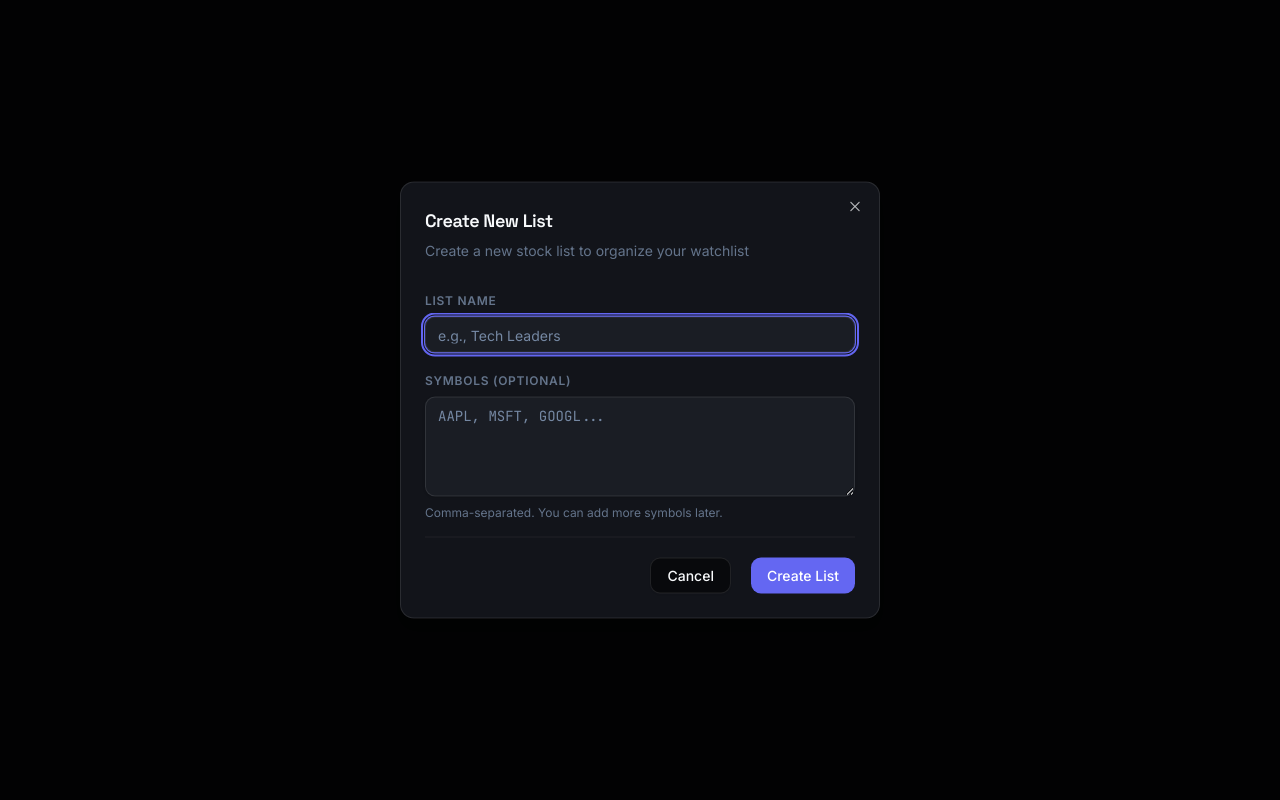
CreateListDialog › Error Handling › displays Axios error detail when available
This screenshot has width=1280, height=800.
Type "Tech" into the field labelled "List Name" at (640, 334), box [425,316,855,352]
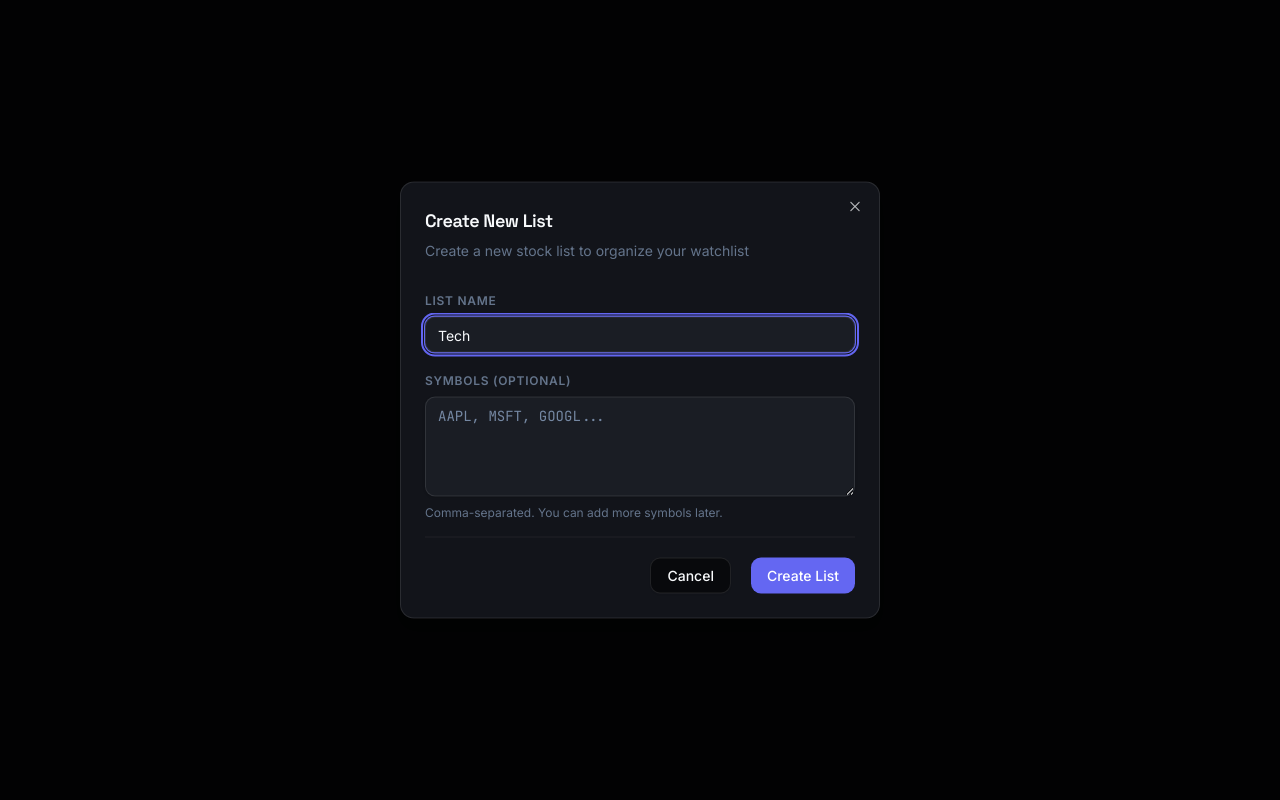
Click the button "Create List" at (803, 576), box [751,558,855,594]
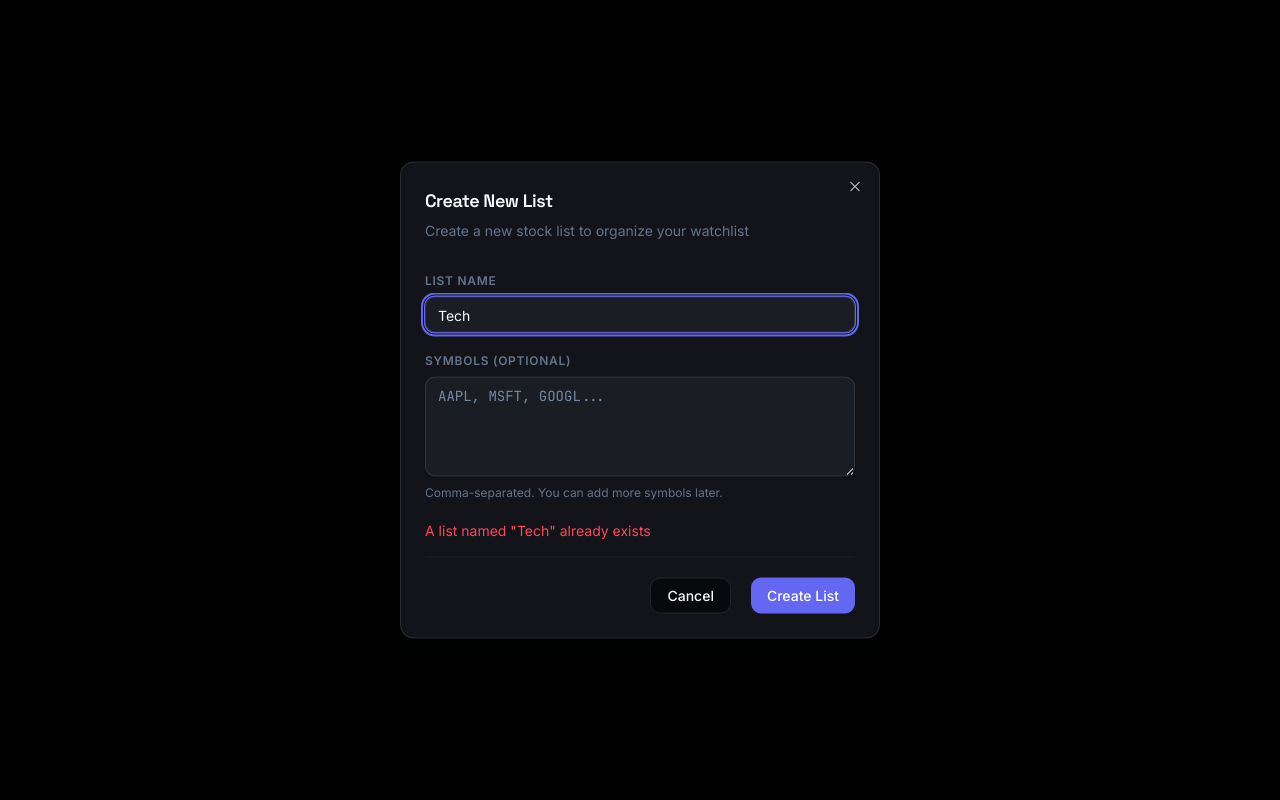
Expected: the text "A list named \"Tech\" already exists" is shown, [425,522,651,538]
